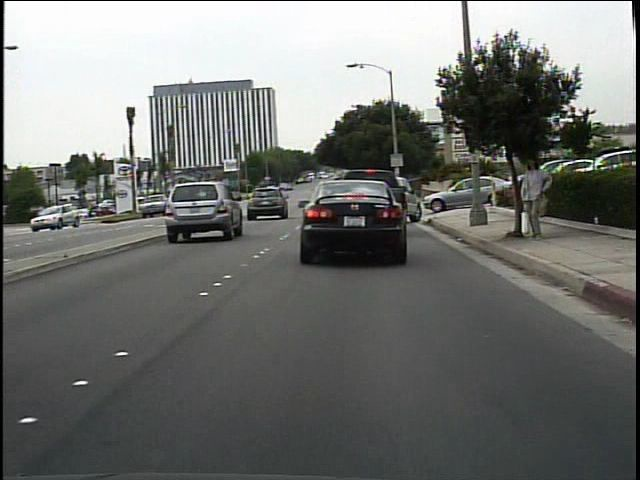person: (516, 153, 554, 245)
